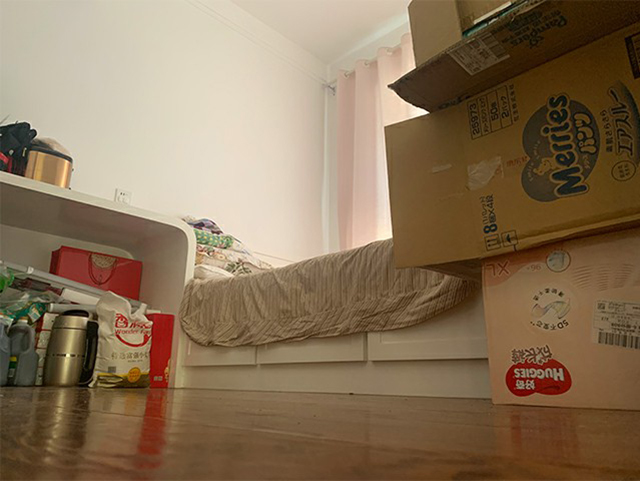bed: (176, 213, 493, 400)
